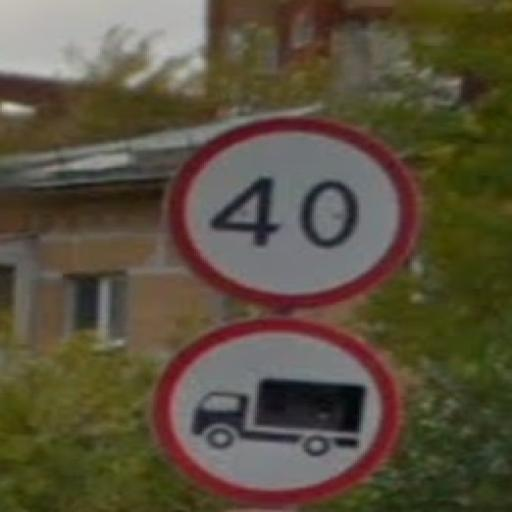traffic_sign: (152, 314, 405, 509), (164, 117, 419, 309)
